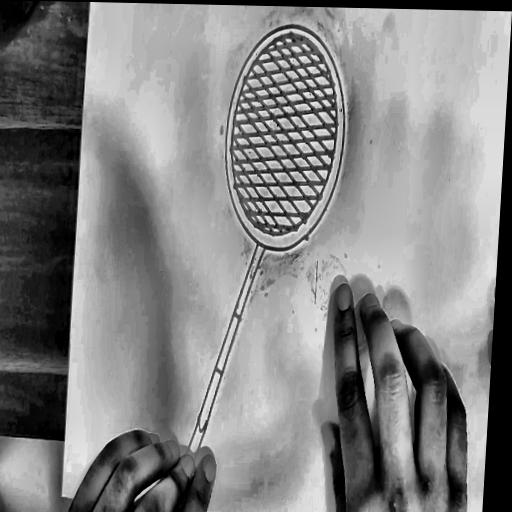badminton: (151, 7, 436, 512)
bottom_left: (58, 489, 65, 501)
